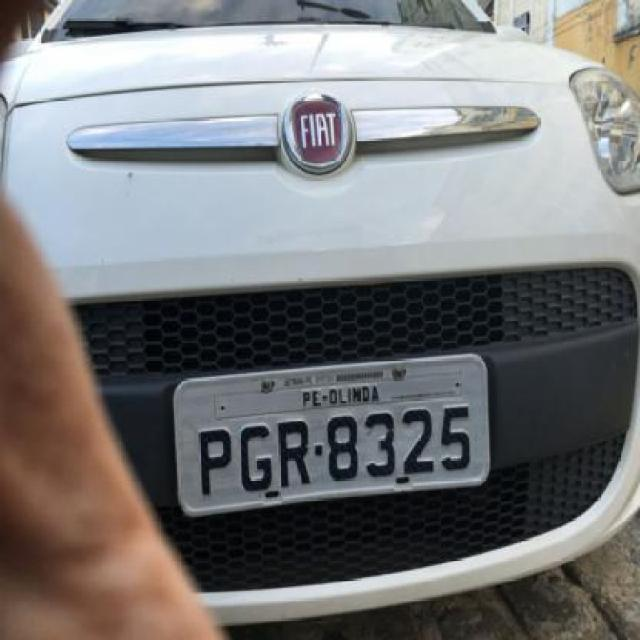old_plate: (166, 345, 497, 528)
